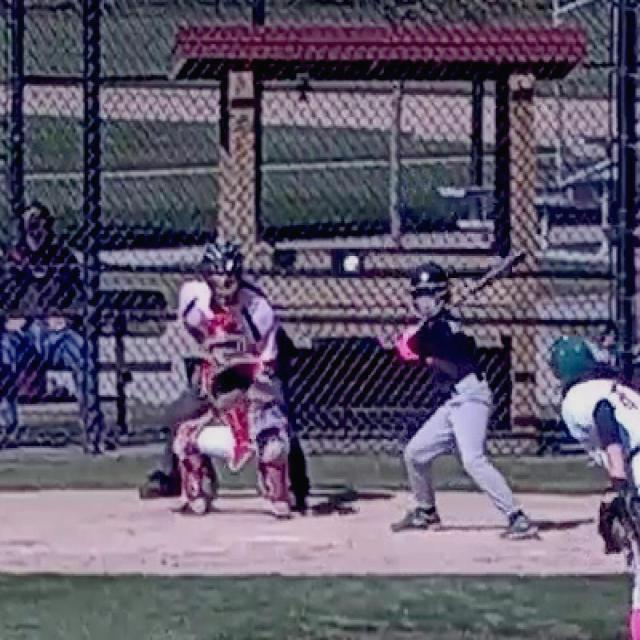ball: (342, 253, 360, 274)
bat: (452, 248, 530, 306)
